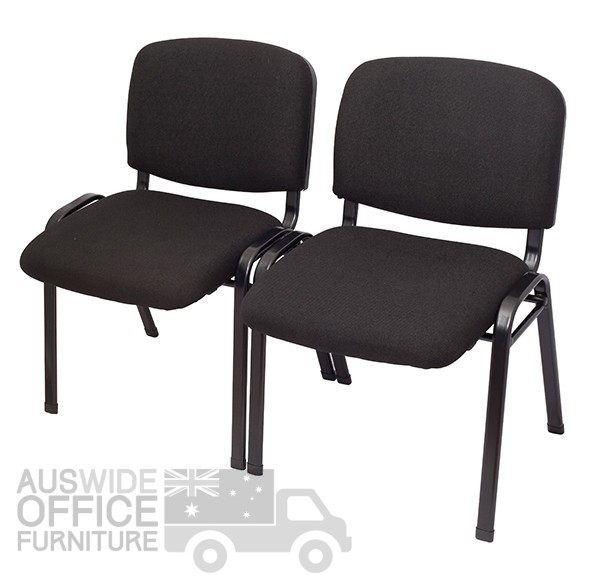chairs: (243, 53, 573, 541), (17, 32, 339, 473)
